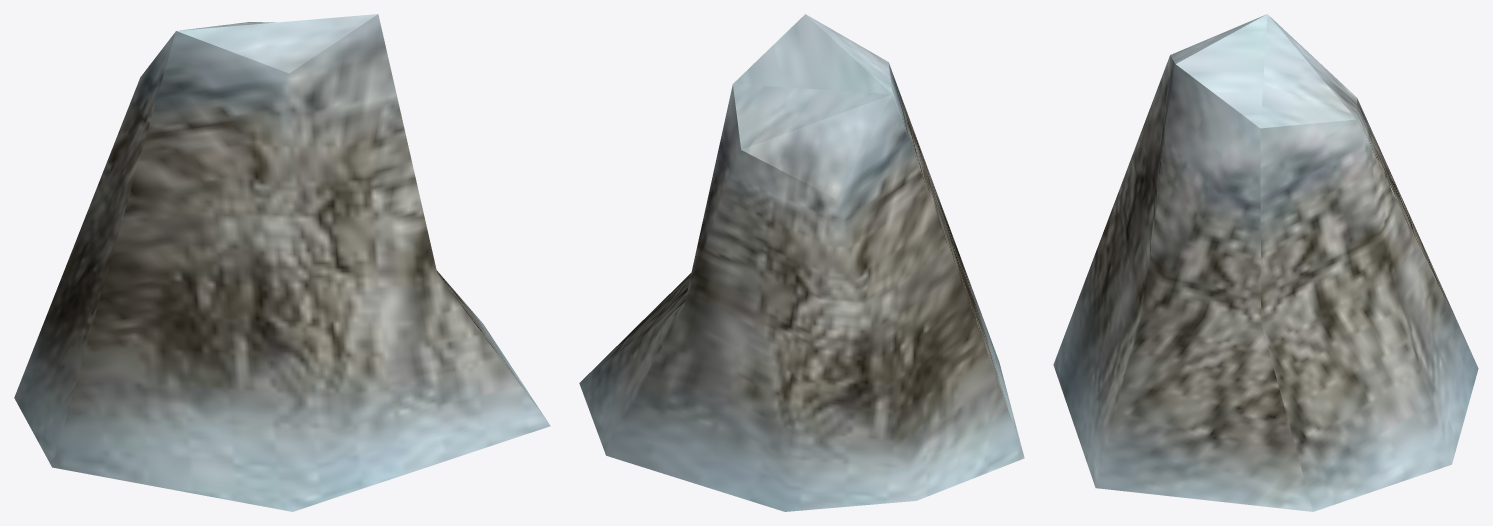
3 views of the same model, side by side, from view 1: azimuth 30°, elevation 25°; view 2: azimuth 150°, elevation 25°; view 3: azimuth 270°, elevation 25° (orthographic). The views are drawn at different scales.
Parts seen in each view (by area): view 1: a84; view 2: a84; view 3: a84.
Part boxes in pixels (left/top/right/bottom): a84: left=14, top=14, right=550, bottom=511; a84: left=579, top=14, right=1024, bottom=511; a84: left=1053, top=14, right=1478, bottom=511.
Size of the model in its own units: 829 by 692 by 724.
